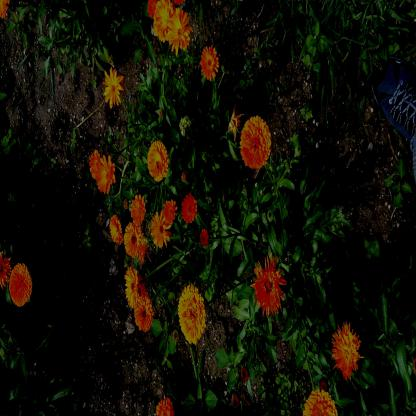marigold: (253, 253, 284, 315), (178, 284, 204, 344), (241, 117, 270, 169), (334, 323, 359, 377), (9, 262, 34, 306), (169, 10, 191, 50), (147, 142, 168, 183), (154, 2, 175, 40), (104, 69, 122, 106), (124, 268, 139, 308), (202, 46, 220, 78), (136, 297, 152, 331), (124, 224, 141, 256), (152, 214, 169, 245), (130, 194, 146, 224), (182, 196, 198, 224), (110, 216, 122, 242), (90, 153, 102, 176)
